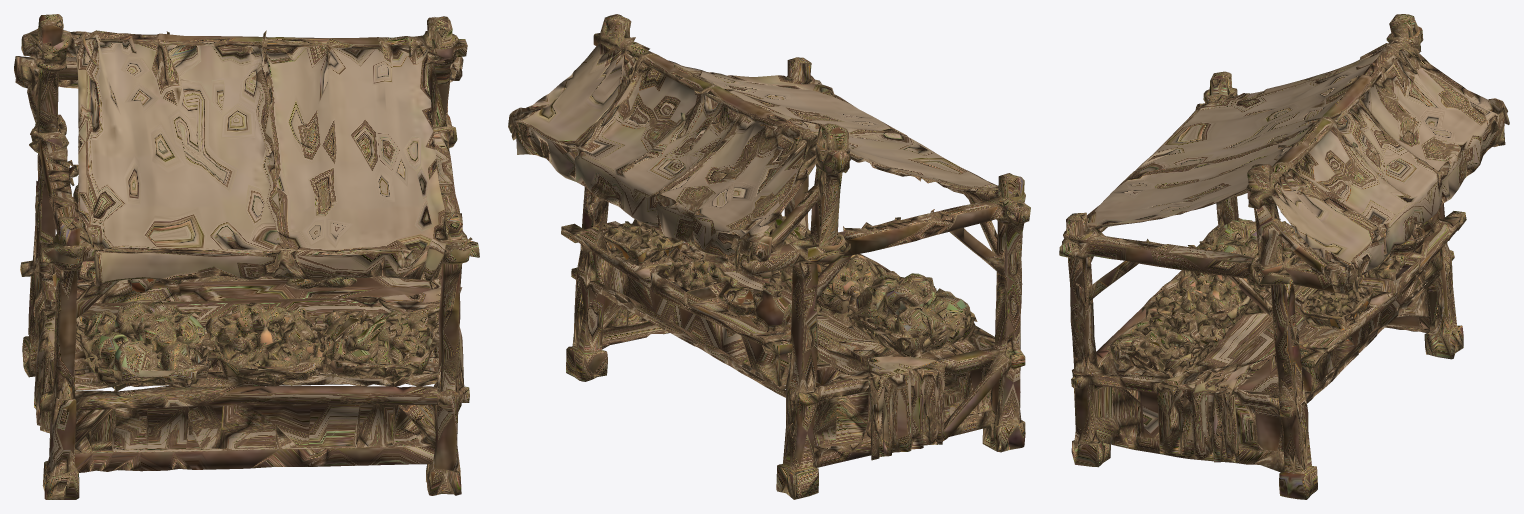
Rendered from vegetable-market-stall-pixal3d.glb.
The picture shows the model from 3 angles, left to right: view 1: azimuth 30°, elevation 25°; view 2: azimuth 150°, elevation 25°; view 3: azimuth 270°, elevation 25°; orthographic projection. The views are drawn at different scales.
Parts seen in each view (by area): view 1: geometry_0; view 2: geometry_0; view 3: geometry_0.
Part boxes in pixels (box(x1,y1,x2,y2)): geometry_0: box(14, 14, 479, 499); geometry_0: box(508, 14, 1030, 499); geometry_0: box(1059, 14, 1509, 499).
Bounding box in the file's own units: 3.58 × 2.8 × 3.25.
Materials: 1 (1 with a texture image).
